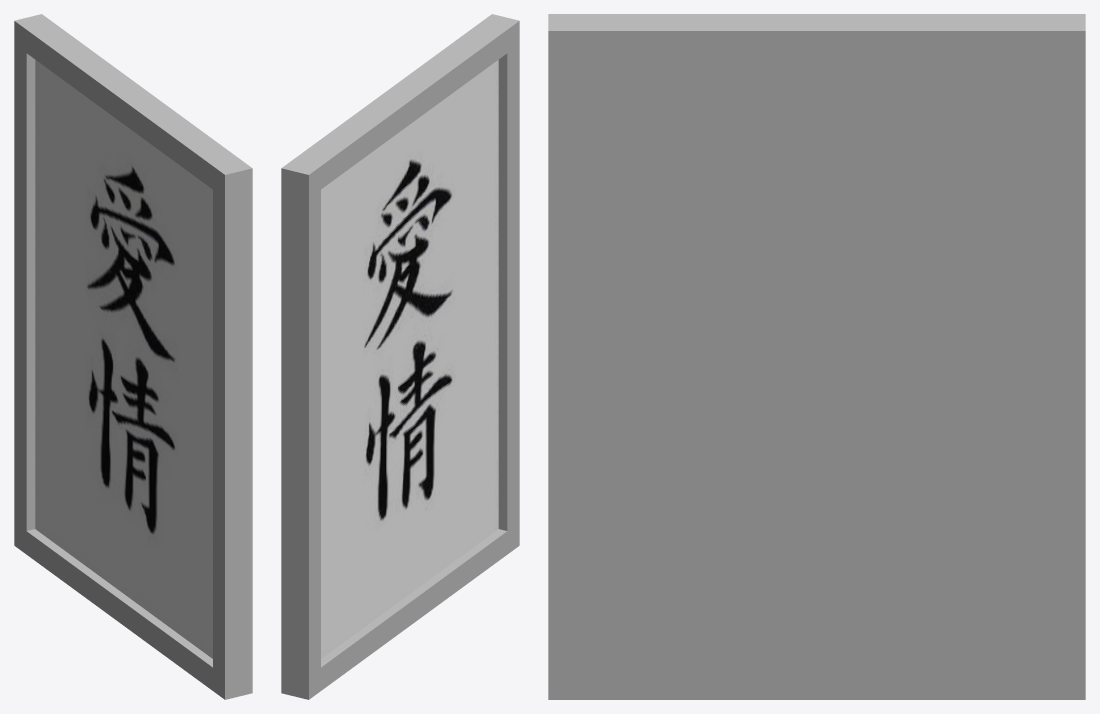
File: Picture 2.FBX
The picture shows the model from 3 angles, left to right: view 1: azimuth 30°, elevation 25°; view 2: azimuth 150°, elevation 25°; view 3: azimuth 270°, elevation 25°; orthographic projection. The views are drawn at different scales.
Parts seen in each view (by area): view 1: picture 2; view 2: picture 2; view 3: picture 2.
Part boxes in pixels (x1,y1,x2,y2): picture 2: [14, 14, 252, 699]; picture 2: [281, 14, 519, 699]; picture 2: [548, 14, 1085, 699].
Bounding box in the file's own units: 3.84 × 69.93 × 50.89.
